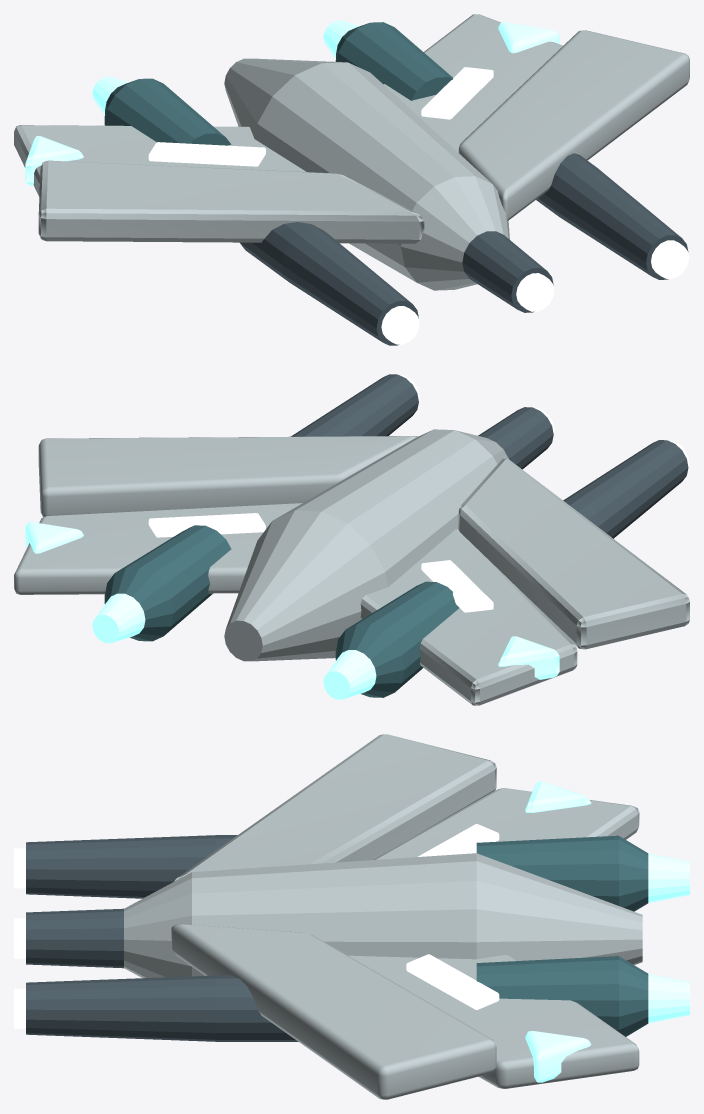
File: mother.glb
The picture shows the model from 3 angles, top to bottom: view 1: azimuth 30°, elevation 25°; view 2: azimuth 150°, elevation 25°; view 3: azimuth 270°, elevation 25°; orthographic projection. The views are drawn at different scales.
Parts seen in each view (by area): view 1: mother / wing / Brushed silver ceramic, mother / body / Brushed silver ceramic, mother / body / Titanium recess, mother / body / mother dark structure, mother / generation2 / mother emissive insert, mother / body / mother emissive insert, mother / wing / mother identity light, mother / body / mother identity light; view 2: mother / wing / Brushed silver ceramic, mother / body / Brushed silver ceramic, mother / body / mother dark structure, mother / body / Titanium recess, mother / body / mother identity light, mother / generation2 / mother emissive insert, mother / wing / mother identity light; view 3: mother / wing / Brushed silver ceramic, mother / body / Brushed silver ceramic, mother / body / Titanium recess, mother / body / mother dark structure, mother / generation2 / mother emissive insert, mother / body / mother identity light, mother / wing / mother identity light, mother / body / mother emissive insert.
Boxes of the visible parts, <box> form: mother / wing / Brushed silver ceramic: <box>14,14,689,243</box>; mother / body / Brushed silver ceramic: <box>224,58,509,290</box>; mother / body / Titanium recess: <box>240,153,688,345</box>; mother / body / mother dark structure: <box>104,22,452,145</box>; mother / generation2 / mother emissive insert: <box>148,67,493,166</box>; mother / body / mother emissive insert: <box>381,240,689,344</box>; mother / wing / mother identity light: <box>25,22,559,185</box>; mother / body / mother identity light: <box>92,20,359,114</box>; mother / wing / Brushed silver ceramic: <box>14,436,689,705</box>; mother / body / Brushed silver ceramic: <box>224,429,508,661</box>; mother / body / mother dark structure: <box>104,525,459,697</box>; mother / body / Titanium recess: <box>291,374,688,538</box>; mother / body / mother identity light: <box>92,593,376,699</box>; mother / generation2 / mother emissive insert: <box>148,513,493,612</box>; mother / wing / mother identity light: <box>25,522,559,679</box>; mother / wing / Brushed silver ceramic: <box>171,734,639,1099</box>; mother / body / Brushed silver ceramic: <box>124,853,642,978</box>; mother / body / Titanium recess: <box>26,835,298,1041</box>; mother / body / mother dark structure: <box>476,835,648,1036</box>; mother / generation2 / mother emissive insert: <box>406,824,499,1009</box>; mother / body / mother identity light: <box>648,853,689,1023</box>; mother / wing / mother identity light: <box>525,781,591,1082</box>; mother / body / mother emissive insert: <box>14,848,25,1028</box>.
Size of the model in its own units: 33.72 by 7.2 by 28.5.
